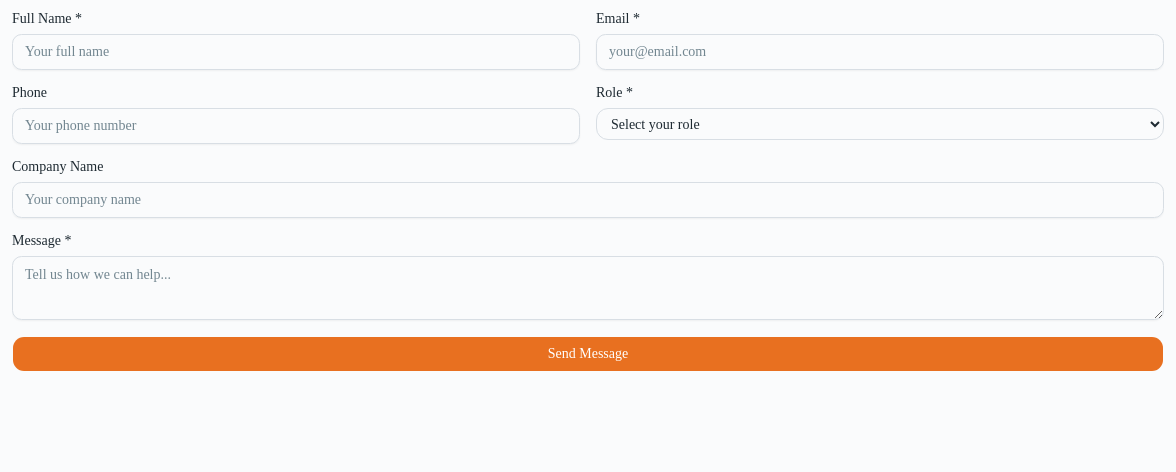
ContactForm › clears error when user types in errored field
This screenshot has width=1176, height=472.
Click the button "Send Message" at [588, 354], box [12,336,1164,372]
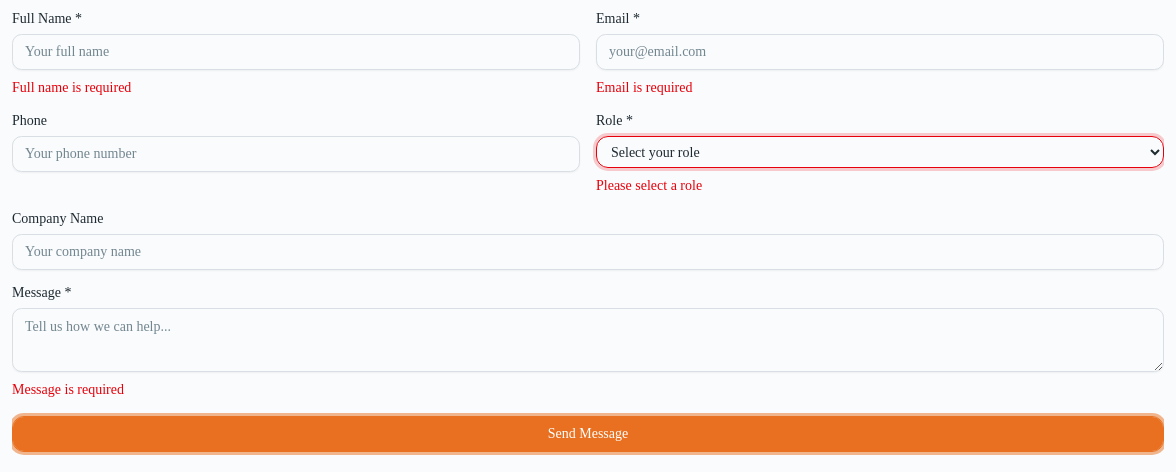
Result: the text "Full name is required" is shown at [12,80,131,95]
Type "Test User" into the field labelled "Full Name *" at [296, 52], box [12,34,580,70]
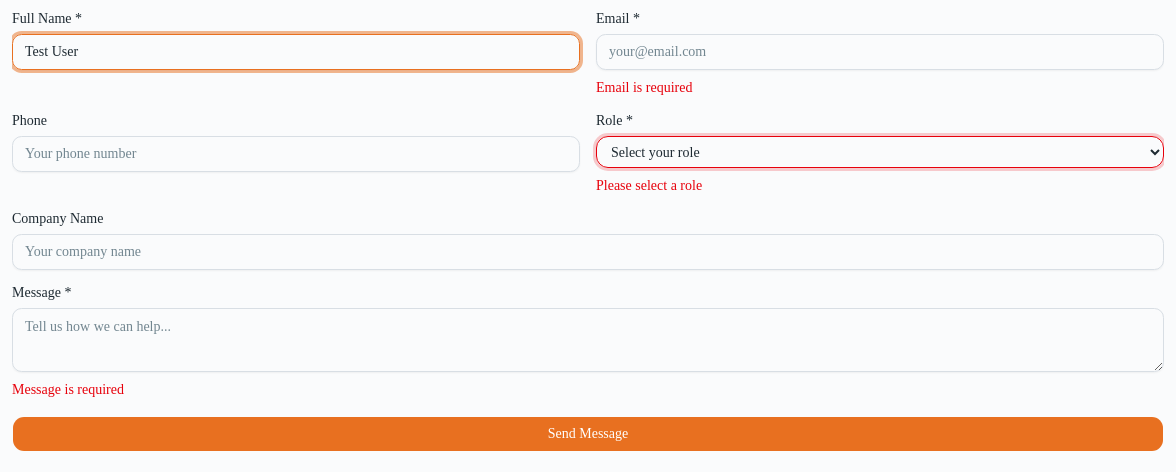
Result: the text "Full name is required" is gone
